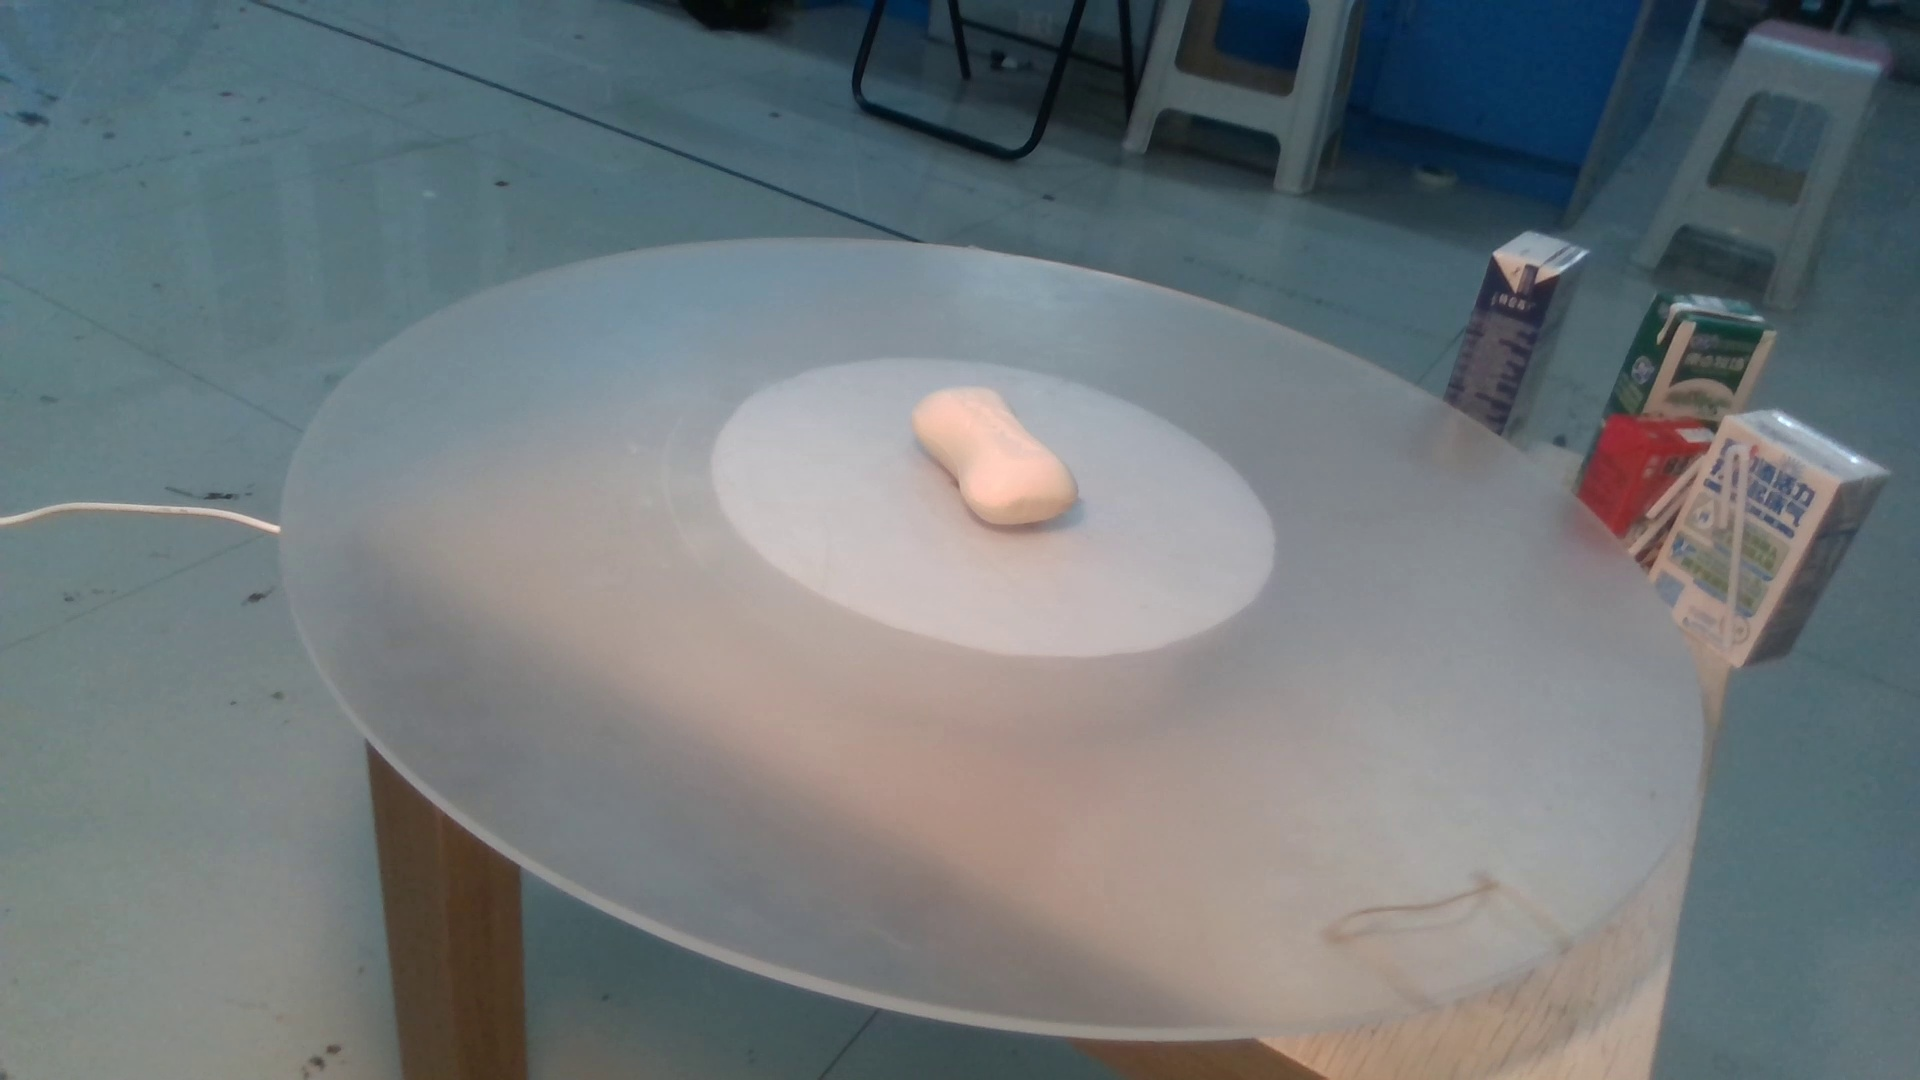CA003_1: (876, 349, 1092, 564)
